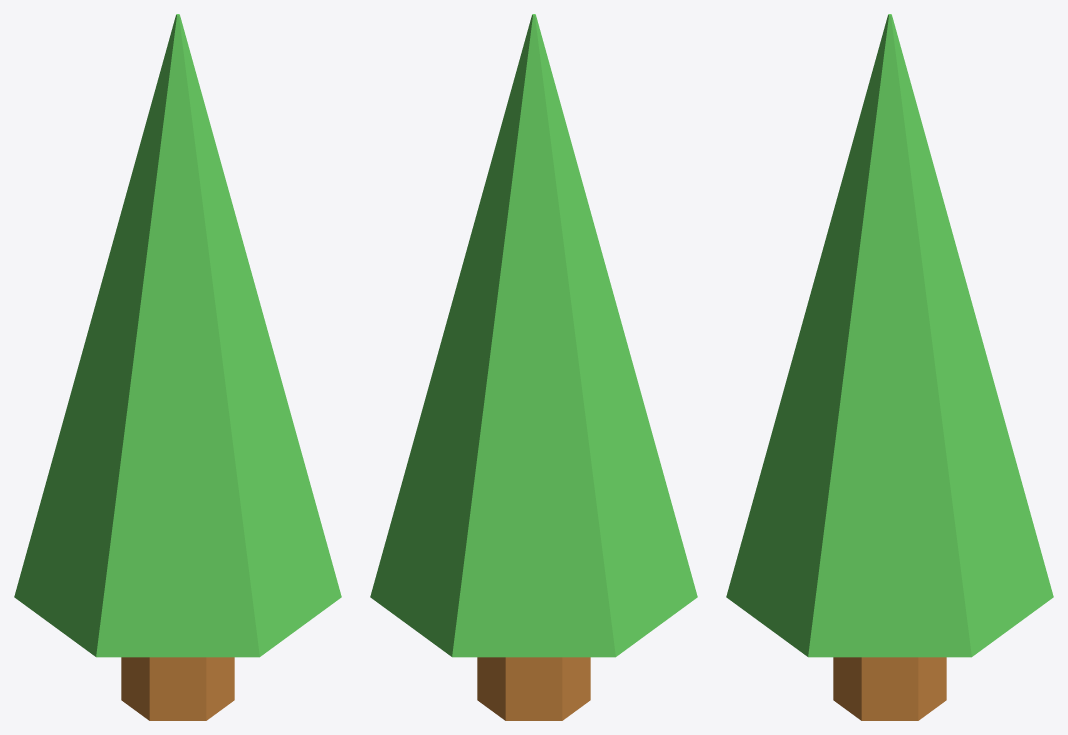
File: Arbre.fbx
The picture shows the model from 3 angles, left to right: view 1: azimuth 30°, elevation 25°; view 2: azimuth 150°, elevation 25°; view 3: azimuth 270°, elevation 25°; orthographic projection.
Visible parts, largest first — view 1: Cylinder; view 2: Cylinder; view 3: Cylinder.
Part boxes in pixels (x1,y1,x2,y2): Cylinder: (14, 14, 341, 720); Cylinder: (370, 14, 697, 720); Cylinder: (726, 14, 1053, 720).
Size of the model in its own units: 500 by 1332 by 577.
